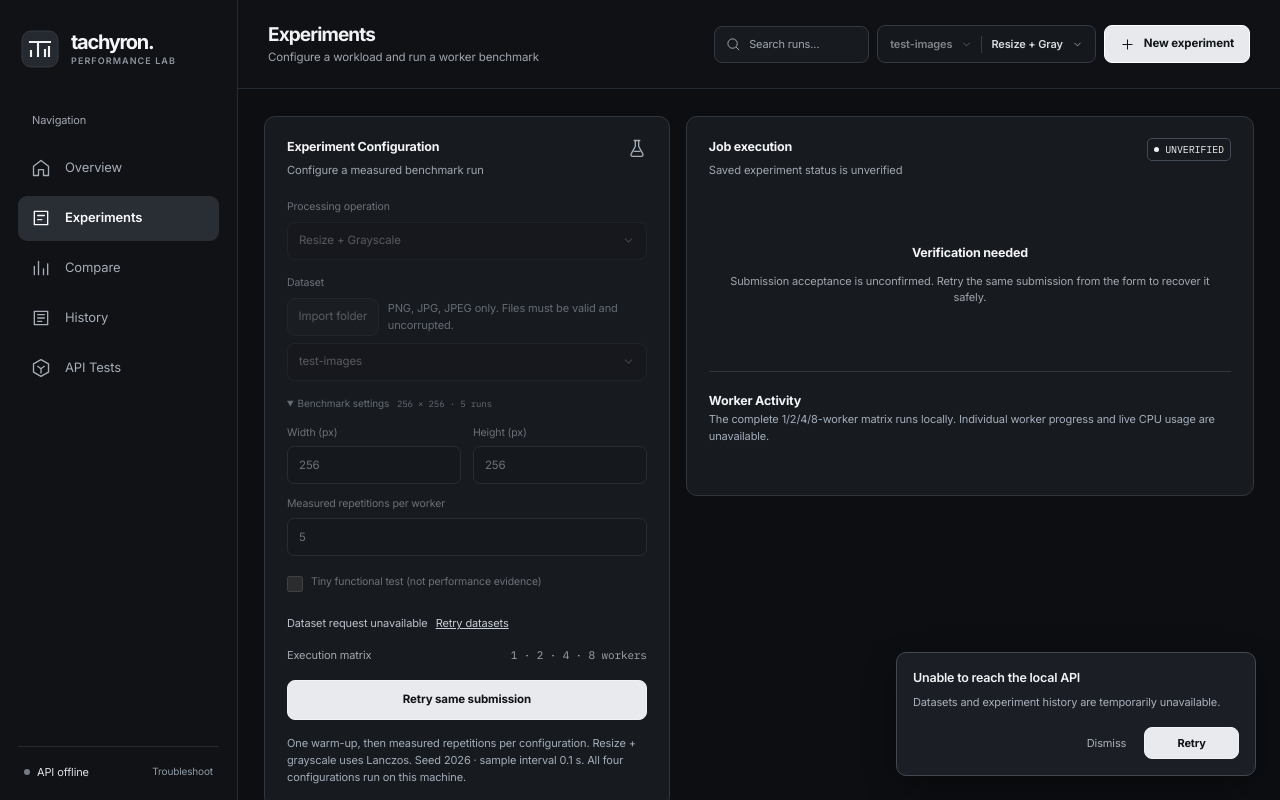
it: preserves an unconfirmed submission key when a toast is dismissed and submission is retried
Check: the text "Submission acceptance is unconfirmed. Retry the same submission from the form" is shown, box [730,274,1210,304]
Click the button "Dismiss" at point(1107, 743), box [1087,727,1126,759]
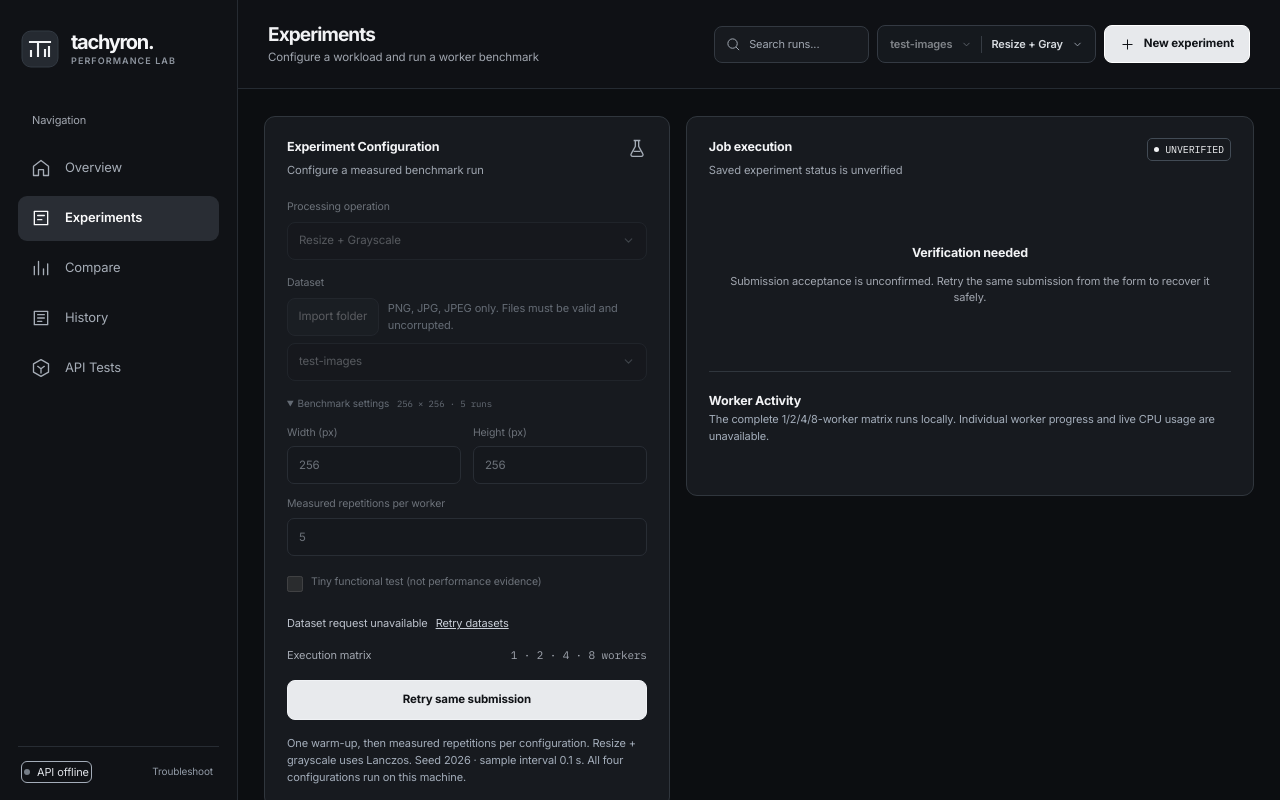
Click the button with aria-label "Recheck API connection" at point(56, 772), box [24,764,89,780]
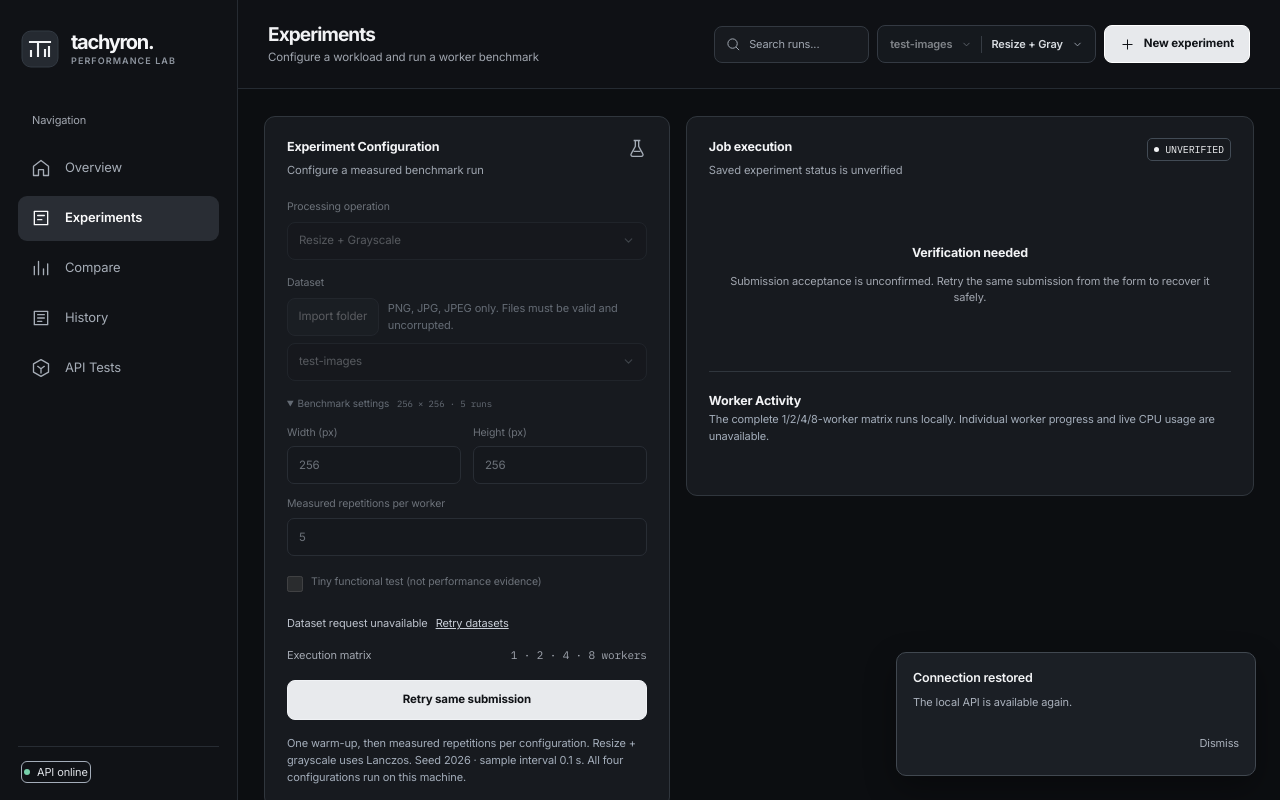
Check: the text "API online" is shown, box [37,764,88,780]
Click the button "Retry same submission" at point(467, 700), box [287,680,647,720]
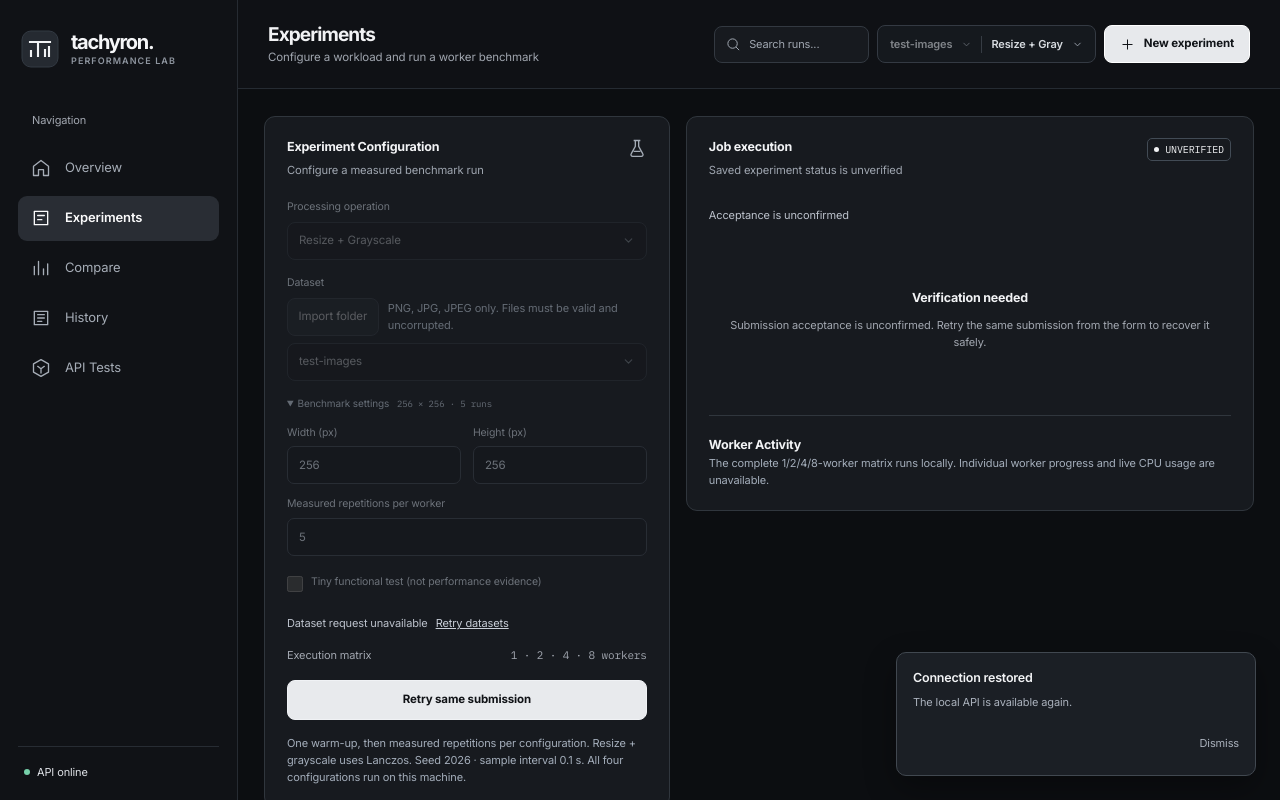
Click the button "Retry same submission" at point(467, 700), box [287,680,647,720]
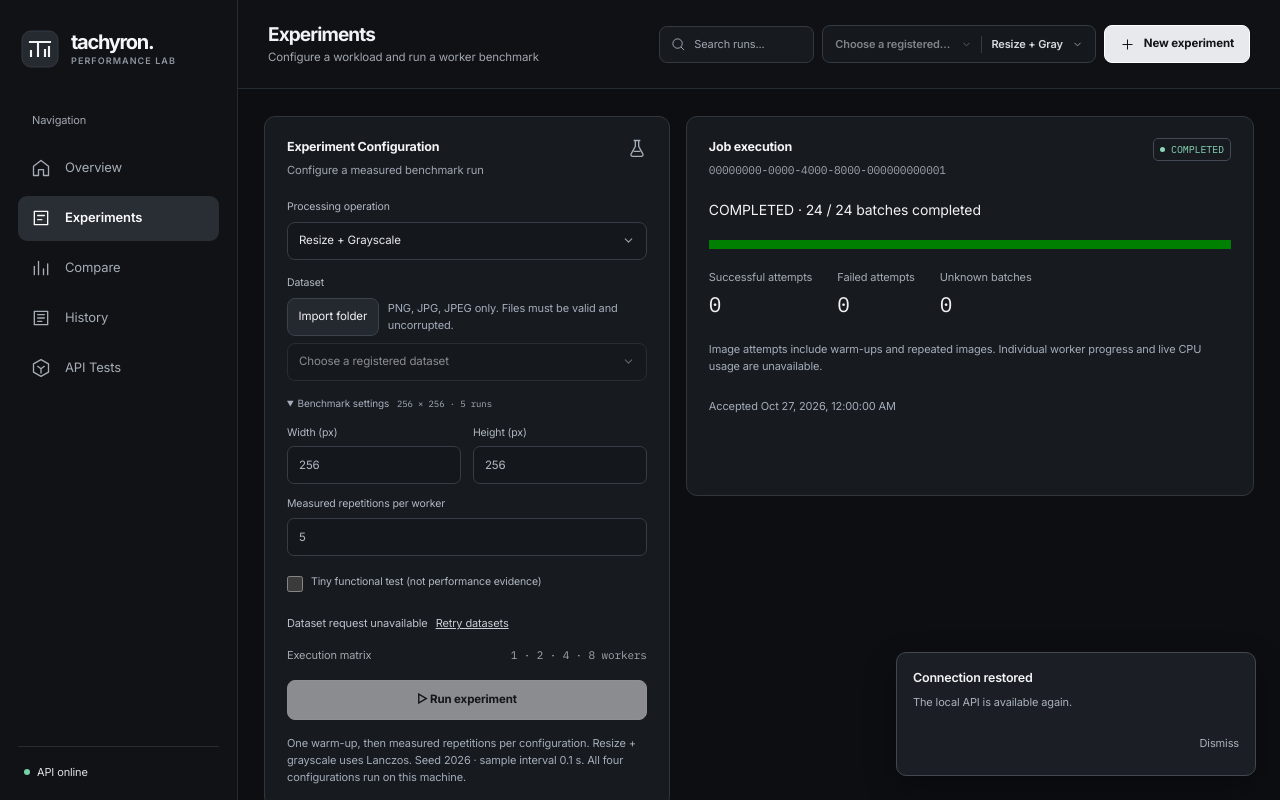
Check: the text "COMPLETED" is shown, box [1153,138,1231,161]
